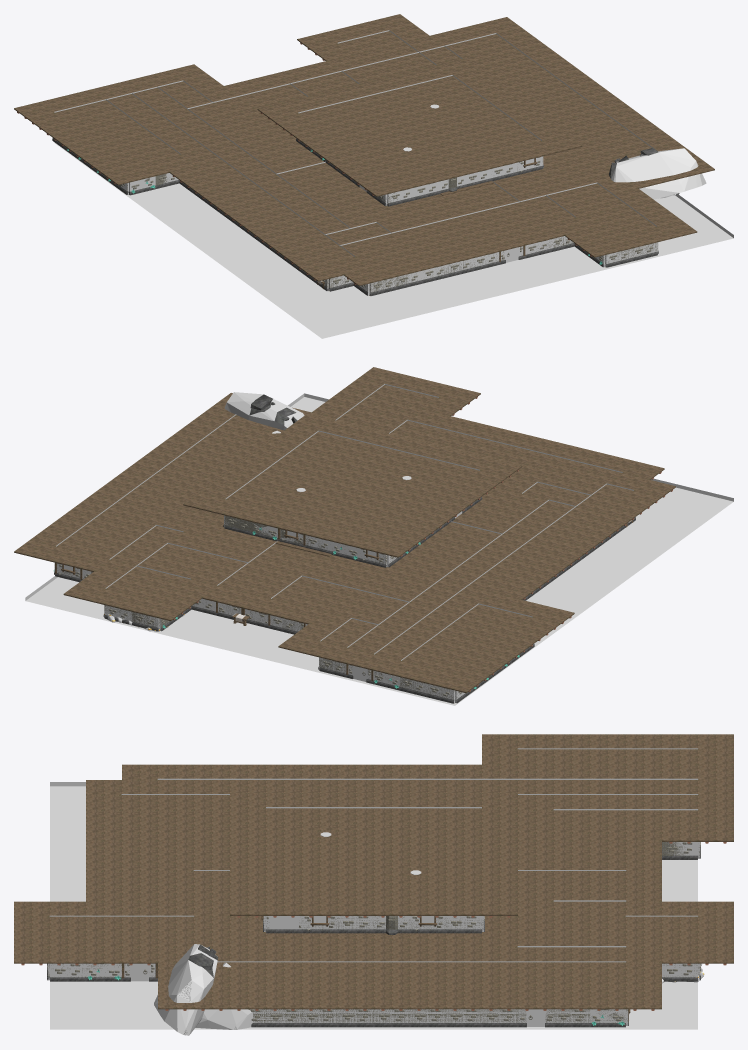
Rendered from dungeon.glb.
The picture shows the model from 3 angles, top to bottom: view 1: azimuth 30°, elevation 25°; view 2: azimuth 150°, elevation 25°; view 3: azimuth 270°, elevation 25°; orthographic projection. The views are drawn at different scales.
Visible parts, largest first — view 1: col_floor, colhull_rubble_rubble_large_001.001, col_wall_001_b0, col_wall_008_b0; view 2: col_floor, colhull_rubble_rubble_large_001.001, col_wall_023_b0, col_wall_015_b0, col_wall_021_b0, rubble_rubble_large_001.001; view 3: col_floor, col_wall_049_b0, colhull_rubble_rubble_large_001.001, col_wall_042_b0, col_wall_044_b0, col_ceiling_002, colhull_rubble_rubble_large_002, col_ceiling_005, ceiling_06_18, ceiling_06_19, ceiling_hall_13_06, ceiling_hall_13_07 (+271 smaller).
Part boxes in pixels (left/top/right/bottom): col_floor: left=54, top=142, right=733, bottom=338; colhull_rubble_rubble_large_001.001: left=611, top=148, right=706, bottom=199; col_wall_001_b0: left=369, top=236, right=573, bottom=295; col_wall_008_b0: left=387, top=156, right=542, bottom=204; col_floor: left=25, top=393, right=733, bottom=705; colhull_rubble_rubble_large_001.001: left=224, top=392, right=304, bottom=430; col_wall_023_b0: left=319, top=657, right=454, bottom=702; col_wall_015_b0: left=225, top=516, right=386, bottom=566; col_wall_021_b0: left=192, top=598, right=307, bottom=631; rubble_rubble_large_001.001: left=249, top=394, right=297, bottom=425; col_floor: left=50, top=782, right=697, bottom=1029; col_wall_049_b0: left=250, top=1009, right=625, bottom=1026; colhull_rubble_rubble_large_001.001: left=154, top=944, right=217, bottom=1035; col_wall_042_b0: left=266, top=916, right=481, bottom=929; col_wall_044_b0: left=50, top=963, right=155, bottom=981; col_ceiling_002: left=157, top=778, right=698, bottom=779; colhull_rubble_rubble_large_002: left=195, top=1009, right=252, bottom=1029; col_ceiling_005: left=217, top=961, right=626, bottom=962; ceiling_06_18: left=662, top=825, right=697, bottom=843; ceiling_06_19: left=698, top=825, right=733, bottom=843; ceiling_hall_13_06: left=230, top=899, right=265, bottom=917; ceiling_hall_13_07: left=266, top=899, right=301, bottom=917.
Size of the model in its own units: 72.12 by 9.51 by 80.
Materials: 8 (8 with a texture image).
